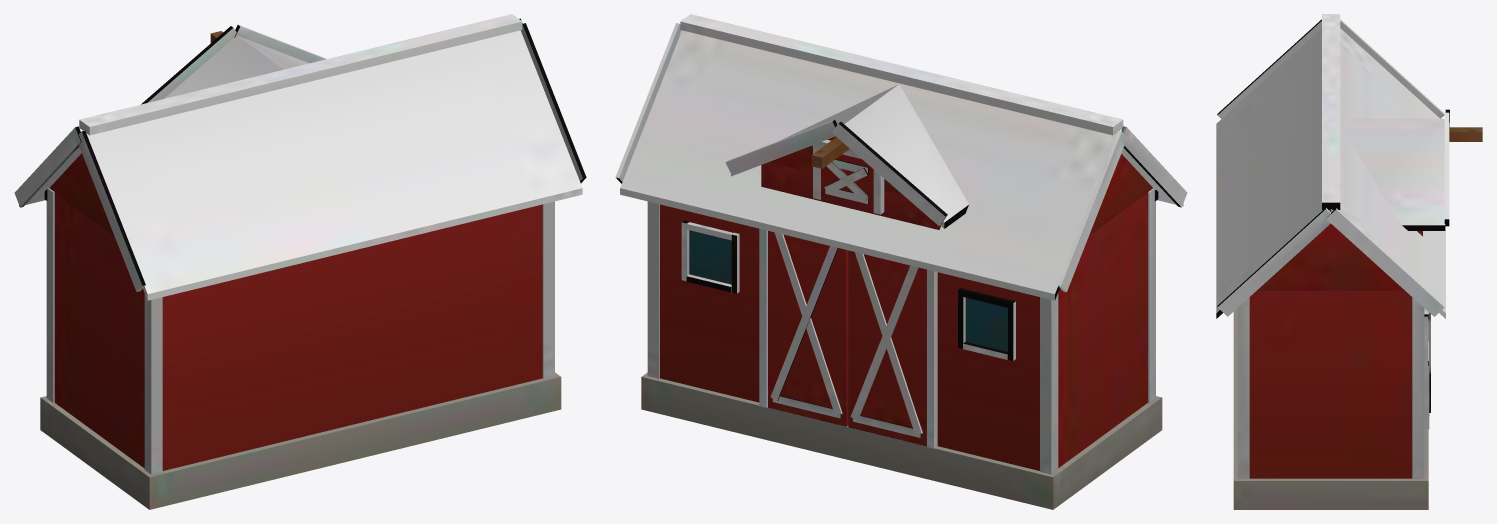
File: storehouse_3_low.glb
3 renders of one model, left to right at view 1: azimuth 30°, elevation 25°; view 2: azimuth 150°, elevation 25°; view 3: azimuth 270°, elevation 25°, orthographic. The views are drawn at different scales.
Parts seen in each view (by area): view 1: shed3_red_low; view 2: shed3_red_low, door_r, door_l; view 3: shed3_red_low.
Part boxes in pixels (left/top/right/bottom): shed3_red_low: left=14, top=14, right=586, bottom=509; shed3_red_low: left=615, top=14, right=1187, bottom=509; door_r: left=768, top=231, right=848, bottom=426; door_l: left=848, top=250, right=926, bottom=446; shed3_red_low: left=1216, top=14, right=1482, bottom=509.
Size of the model in its own units: 5 by 3.75 by 2.9.
Materials: 5 (5 with a texture image).
